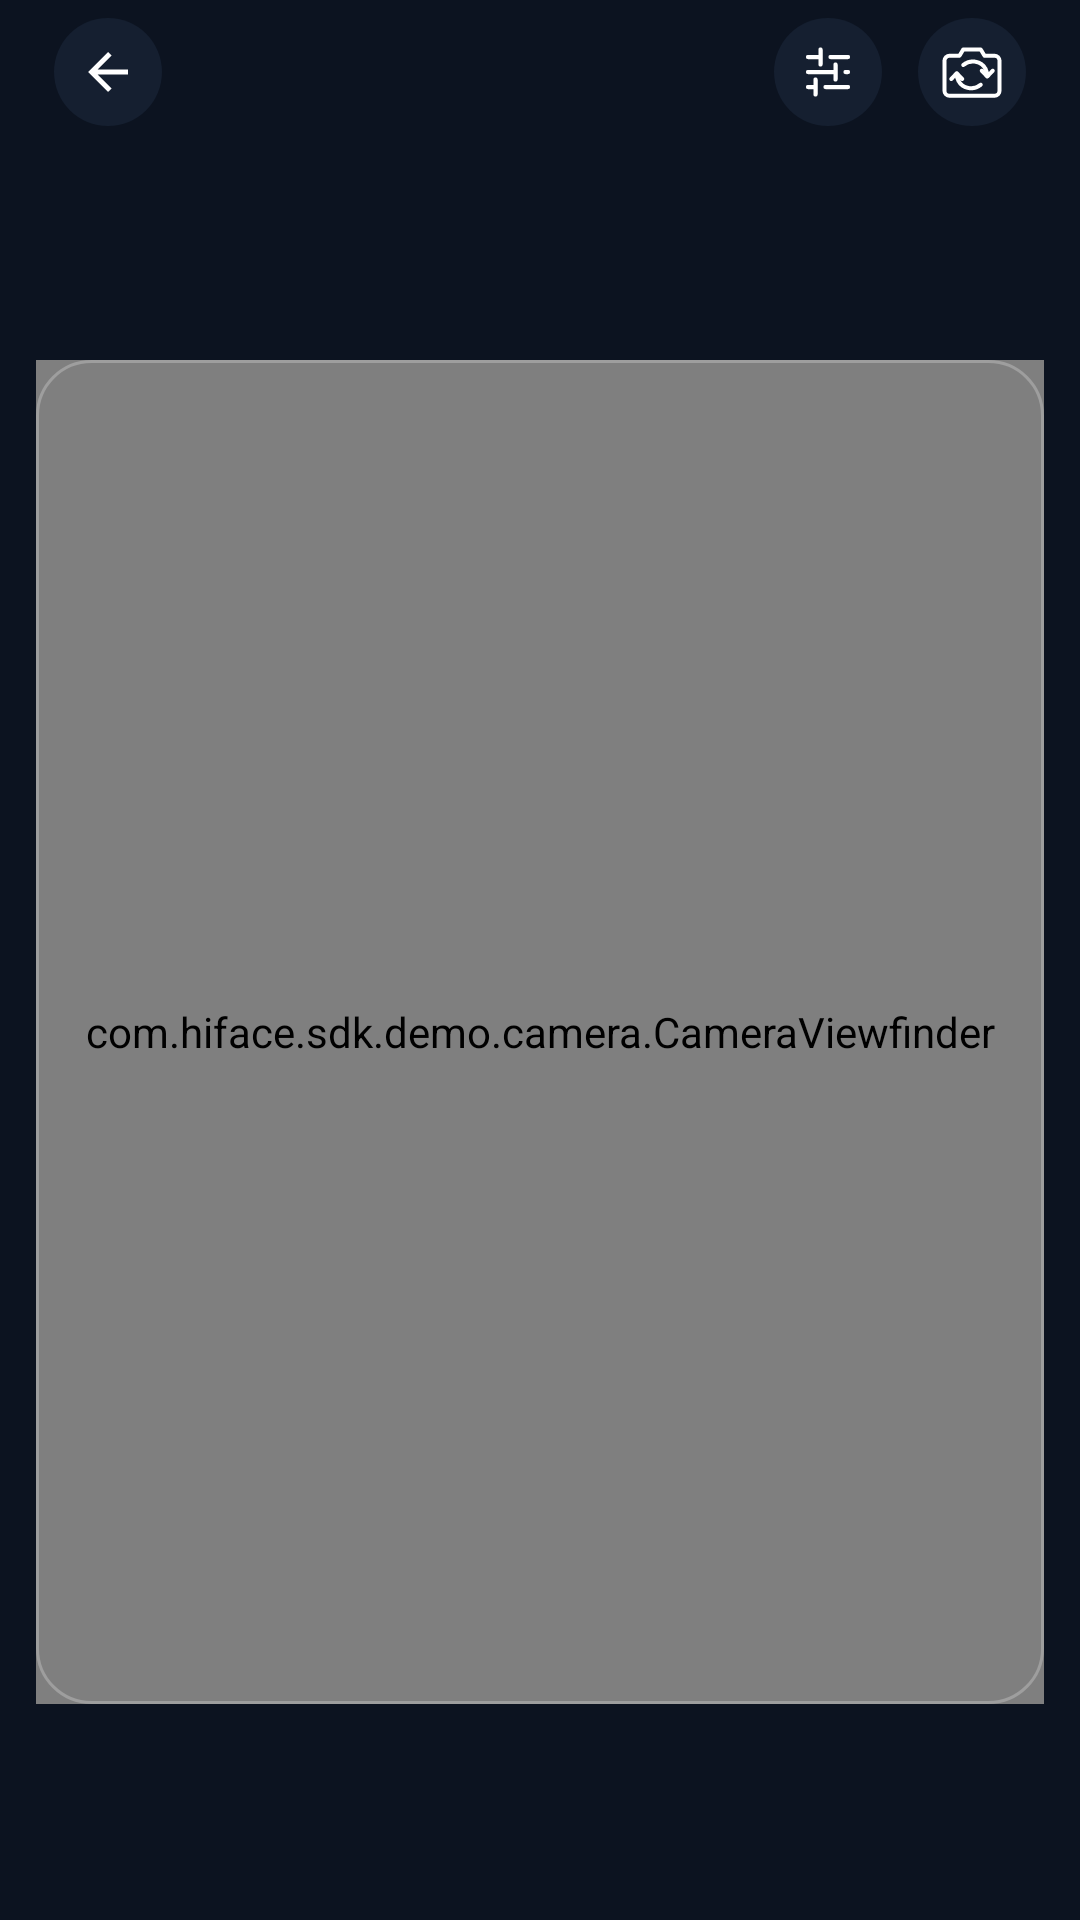

Point at icon controls on the screen. Image size 1080 × 1920, points as [x,y].
Back: [108,72]
Switch camera: [972,72]
